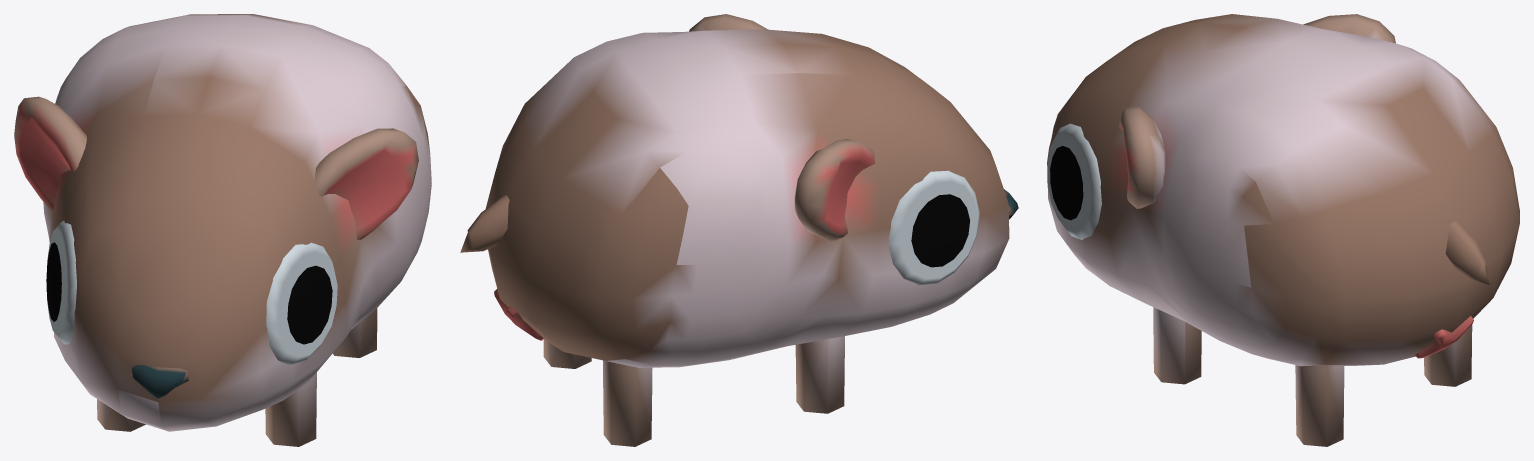
File: Hamster.glb
3 views of the same model, side by side, from view 1: azimuth 30°, elevation 25°; view 2: azimuth 150°, elevation 25°; view 3: azimuth 270°, elevation 25° (orthographic). The views are drawn at different scales.
Visible parts, largest first — view 1: 64; view 2: 64; view 3: 64.
Part boxes in pixels (x1,y1,x2,y2): 64: [14, 14, 431, 446]; 64: [460, 14, 1018, 446]; 64: [1047, 14, 1519, 446].
Bounding box in the file's own units: 0.4444 × 0.3549 × 0.4559.
